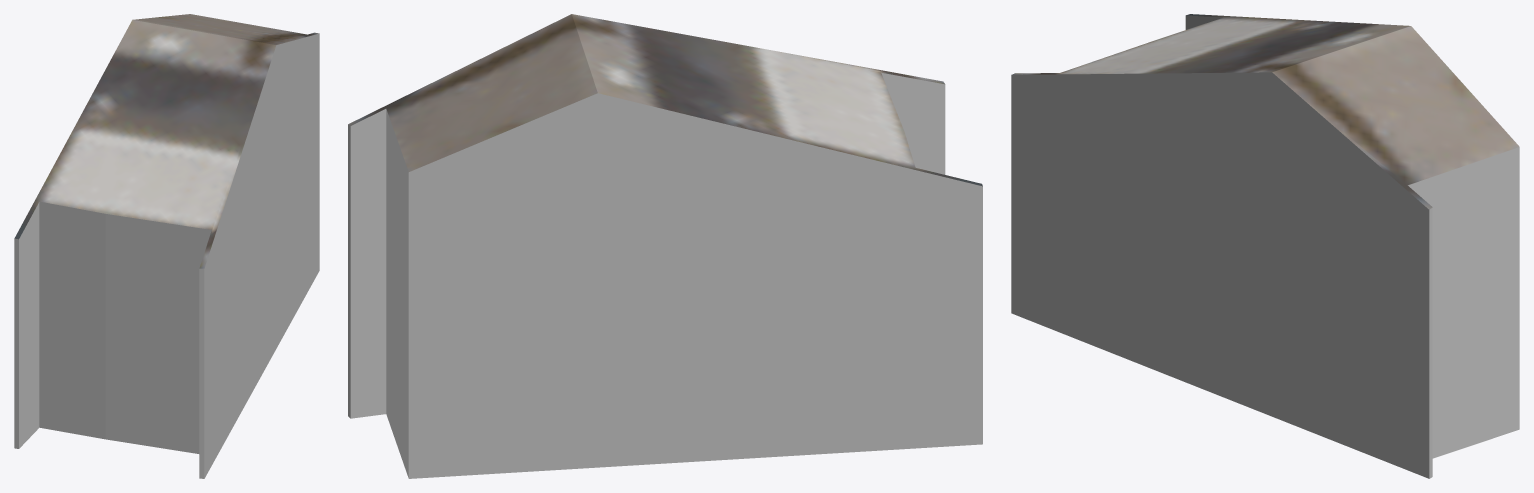
Rendered from DEBW_0010007TvlF.gltf.
The picture shows the model from 3 angles, left to right: view 1: azimuth 30°, elevation 25°; view 2: azimuth 150°, elevation 25°; view 3: azimuth 270°, elevation 25°; orthographic projection. The views are drawn at different scales.
Parts seen in each view (by area): view 1: Z_UP; view 2: Z_UP; view 3: Z_UP.
Part boxes in pixels (x1,y1,x2,y2): Z_UP: (14,14,319,478); Z_UP: (348,14,982,478); Z_UP: (1011,14,1519,478).
Bounding box in the file's own units: 15.63 × 11.07 × 14.79.
2 materials, 1 textured.
